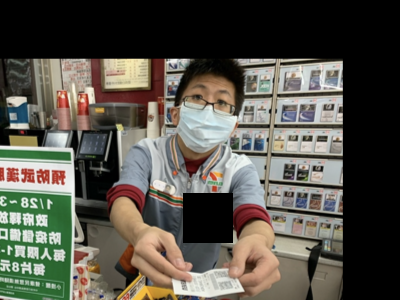with_mask: (172, 81, 237, 154)
